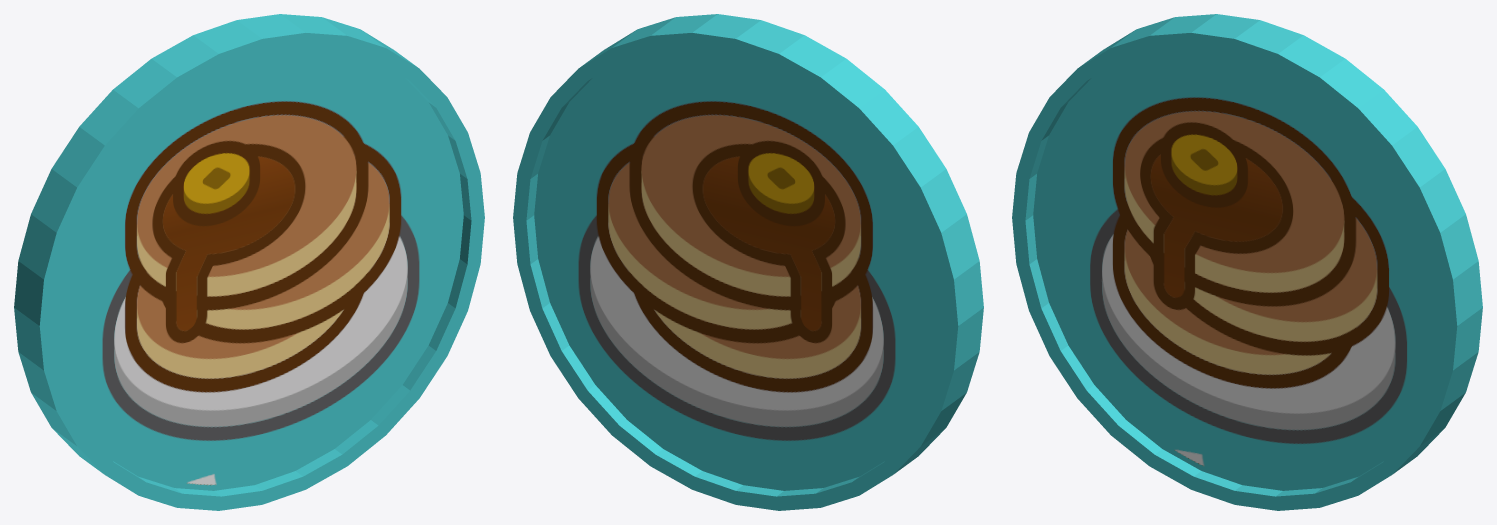
The model's file is CAKE.glb.
3 views of the same model, side by side, from view 1: azimuth 30°, elevation 25°; view 2: azimuth 150°, elevation 25°; view 3: azimuth 330°, elevation 25° (orthographic).
Visible parts, largest first — view 1: Cylinder; view 2: Cylinder; view 3: Cylinder.
Boxes of the visible parts, <box> form: Cylinder: <box>14,14,484,510</box>; Cylinder: <box>513,14,983,510</box>; Cylinder: <box>1012,14,1482,510</box>.
Size of the model in its own units: 1 by 1 by 0.1.
1 material, 1 textured.
